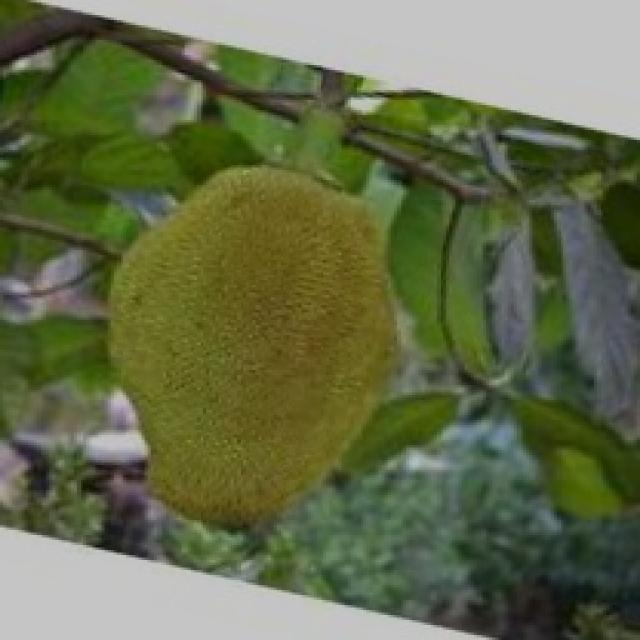Fruit: (65, 132, 446, 560)
